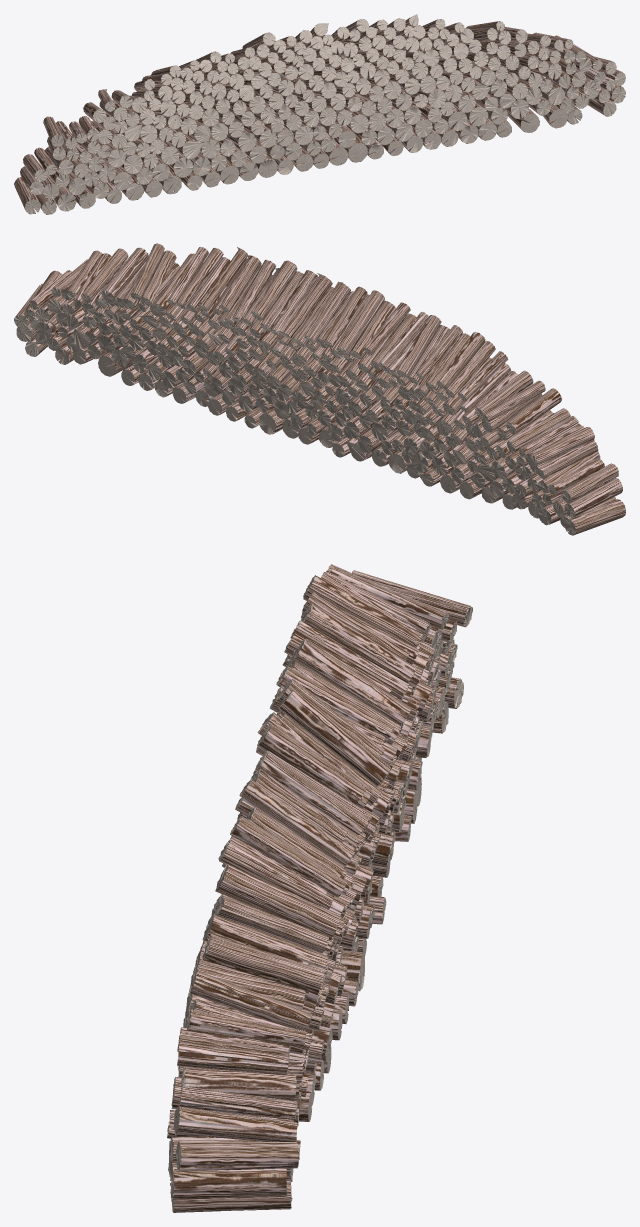
The model's file is SM_Firewood.fbx.
3 views of the same model, one above another, from view 1: azimuth 30°, elevation 25°; view 2: azimuth 150°, elevation 25°; view 3: azimuth 270°, elevation 25° (orthographic). The views are drawn at different scales.
Parts seen in each view (by area): view 1: SM_Firewood; view 2: SM_Firewood; view 3: SM_Firewood.
Part boxes in pixels (x1,y1,x2,y2): SM_Firewood: (14,14,625,214); SM_Firewood: (14,243,625,535); SM_Firewood: (167,564,472,1212).
Bounding box in the file's own units: 656 × 151 × 156.
